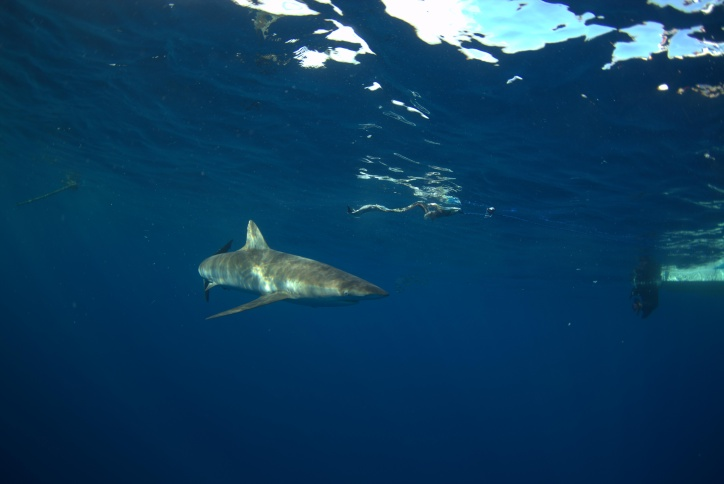Sedoso: (189, 218, 394, 331)
